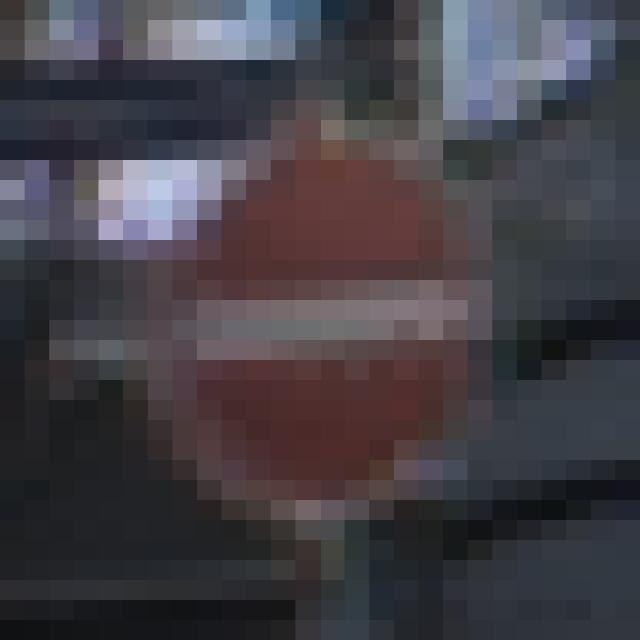No Entry: (124, 101, 518, 541)
